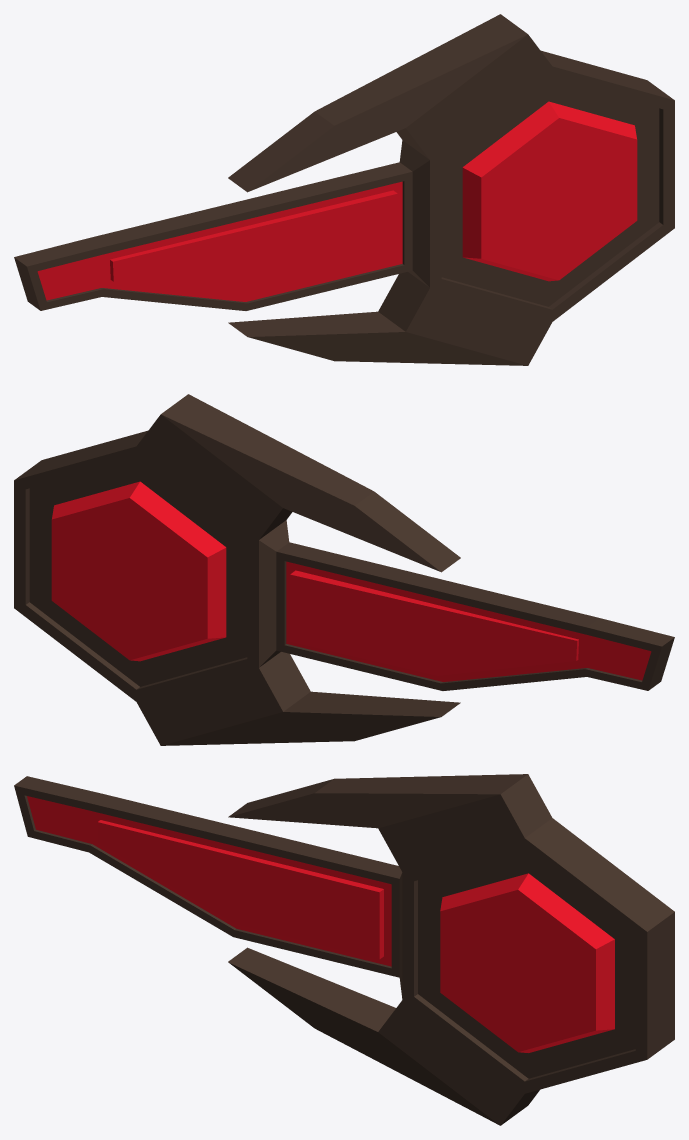
The model's file is PuzzleKey.fbx.
The picture shows the model from 3 angles, top to bottom: view 1: azimuth 30°, elevation 25°; view 2: azimuth 150°, elevation 25°; view 3: azimuth 330°, elevation 25°; orthographic projection.
Visible parts, largest first — view 1: PuzzleKey; view 2: PuzzleKey; view 3: PuzzleKey.
Boxes of the visible parts, x1,y1,x2,y2 form: PuzzleKey: (14,14,674,365); PuzzleKey: (14,394,674,745); PuzzleKey: (14,774,674,1125).
Size of the model in its own units: 524 by 259 by 58.35.
